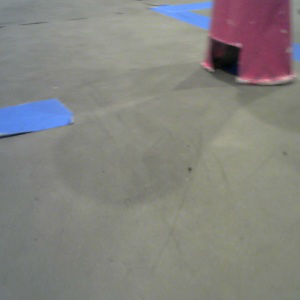right: (200, 1, 296, 85)
